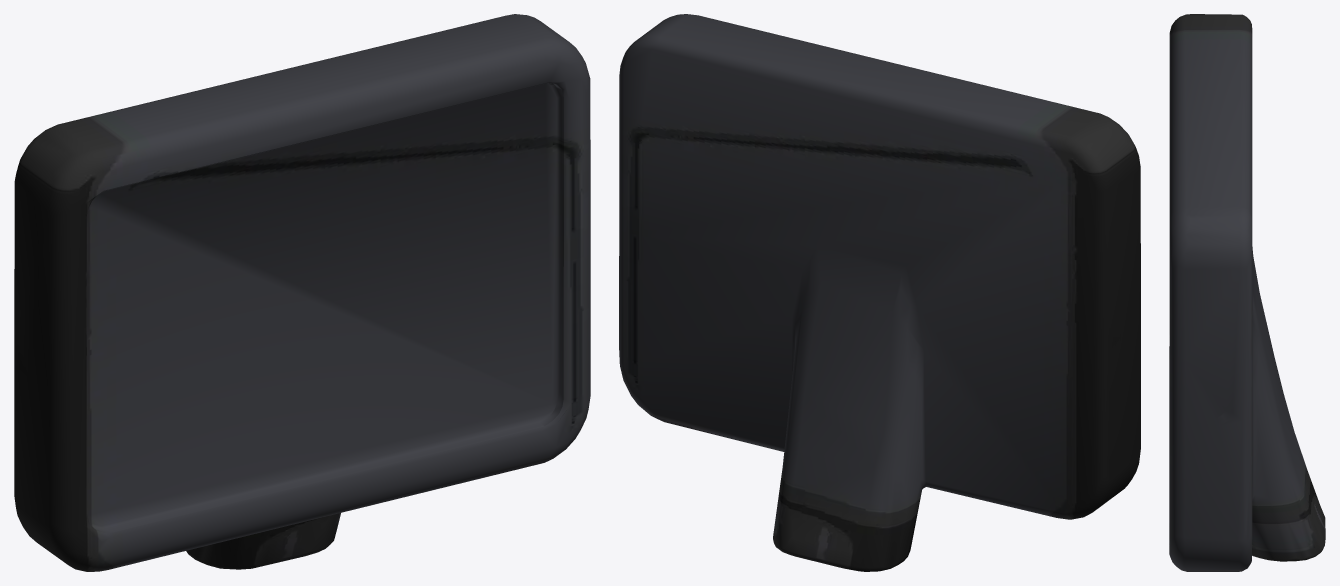
3 renders of one model, left to right at view 1: azimuth 30°, elevation 25°; view 2: azimuth 150°, elevation 25°; view 3: azimuth 270°, elevation 25°, orthographic. The views are drawn at different scales.
Visible parts, largest first — view 1: Decor_gym_scoreboard; view 2: Decor_gym_scoreboard; view 3: Decor_gym_scoreboard.
Boxes of the visible parts, bbox=[...] form: Decor_gym_scoreboard: bbox=[14, 14, 590, 571]; Decor_gym_scoreboard: bbox=[619, 14, 1140, 571]; Decor_gym_scoreboard: bbox=[1169, 14, 1325, 571].
Bounding box in the file's own units: 2.3 × 2 × 0.67.
1 material, 1 textured.
